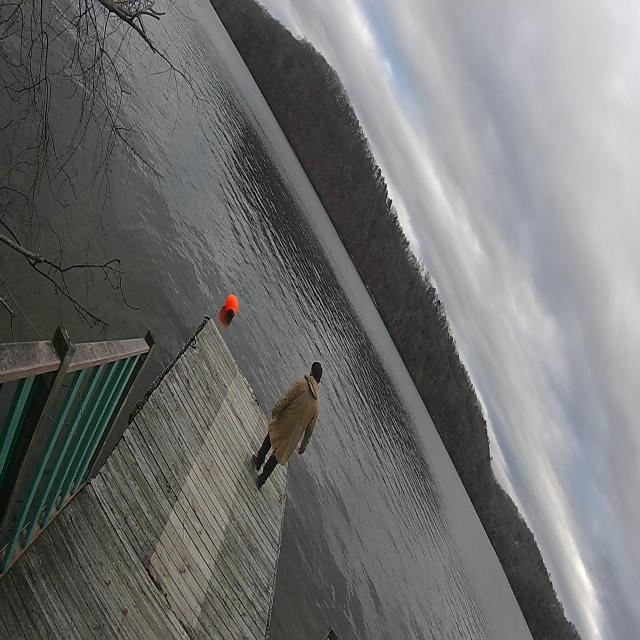Buoy: (225, 294, 239, 322)
